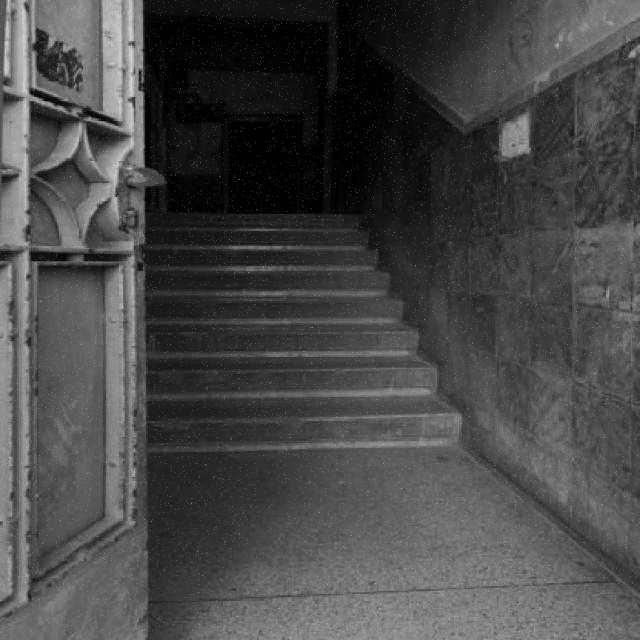stair: (142, 209, 463, 454)
